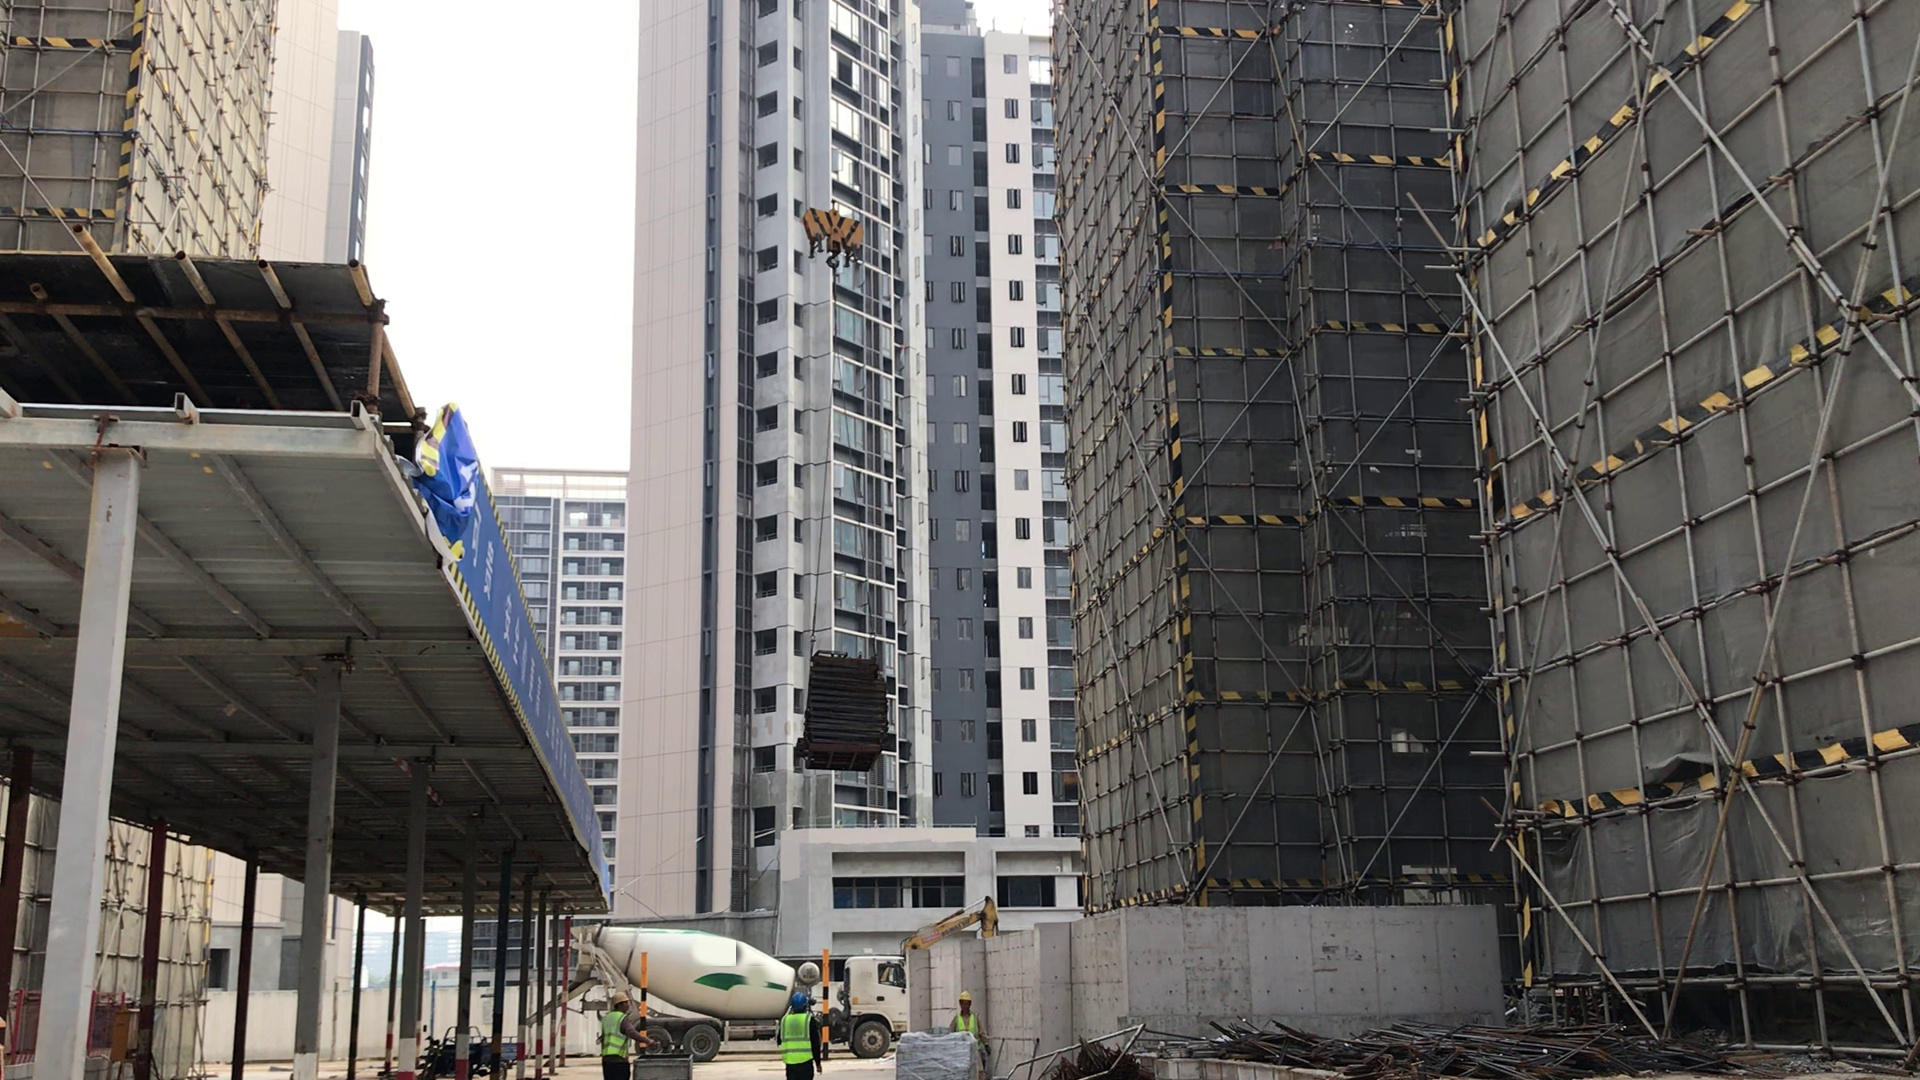ebox: (106, 988, 142, 1080)
helmet: (956, 980, 985, 1013), (785, 979, 815, 1009), (605, 988, 632, 1009)
hook: (766, 192, 874, 263)
person: (772, 994, 826, 1078), (598, 996, 638, 1078), (948, 982, 989, 1041)
vest: (778, 1012, 818, 1070), (601, 1014, 641, 1067), (949, 1015, 982, 1036)
